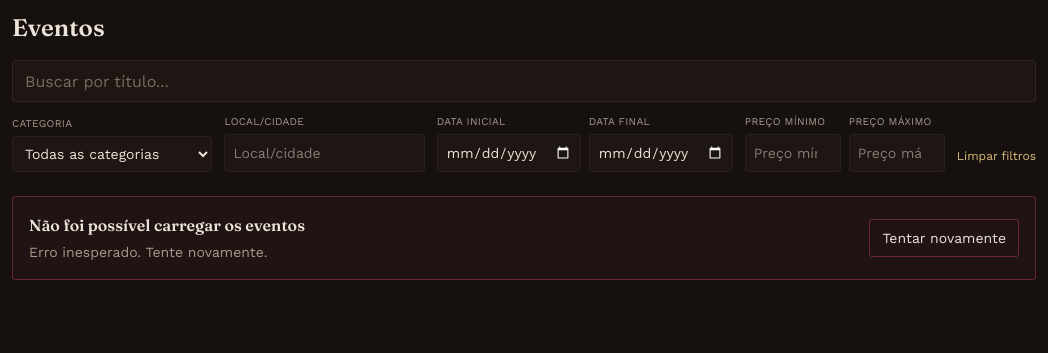
Test: HomePage › shows an error message with a retry option when the fetch fails
The width and height of the screenshot is (1048, 353).
Expected: the text "Erro inesperado. Tente novamente." is shown, [29, 241, 305, 263]
Click the button "Tentar novamente" at (944,238), box [870, 219, 1019, 257]
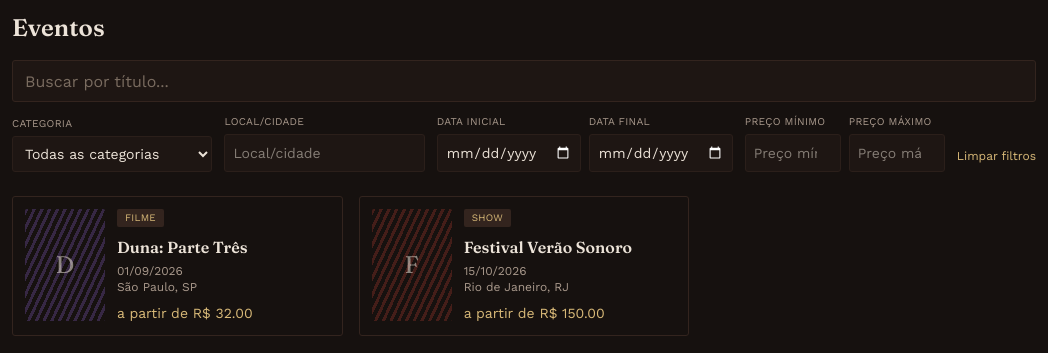
Expected: the heading "Duna: Parte Três" is shown, [117, 238, 248, 258]
